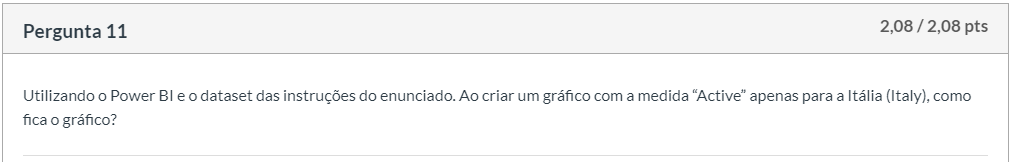

This screenshot's page, from the dashboard's own definition file:
{"tool":"powerbi","page":{"name":"Q11","canvas":[1280,720],"ordinal":3},"visuals":[{"type":"lineChart","title":"Italy - Active by ObservationDate","fields":{"Y":["covid_19_data (2).Ativos"],"Category":["covid_19_data (2).ObservationDate"]},"box":[56.6,373.5,583.4,346.8],"z":0},{"type":"slicer","fields":{"Values":["covid_19_data (2).ObservationDate"]},"box":[334.4,269.6,610.2,121.4],"z":1000},{"type":"image","box":[0,0,1280,352.1],"z":2000},{"type":"columnChart","title":"Italy - Active by ObservationDate","fields":{"Y":["covid_19_data (2).Ativos"],"Category":["covid_19_data (2).ObservationDate.Variation.Date Hierarchy.Month"]},"box":[640,372.5,582.4,347.8],"z":3000}]}

Visuals, with their boxes on the page's 1280x720 design canvas (x1, y1, x2, y2). These are canvas units, not pixel positions in the 1014x162 screenshot, which may show the page scaled, cropped or inside an application window:
"Italy - Active by ObservationDate" lineChart: l=57, t=374, r=640, b=720
slicer - covid_19_data (2).ObservationDate: l=334, t=270, r=945, b=391
image: l=0, t=0, r=1280, b=352
"Italy - Active by ObservationDate" columnChart: l=640, t=372, r=1222, b=720
